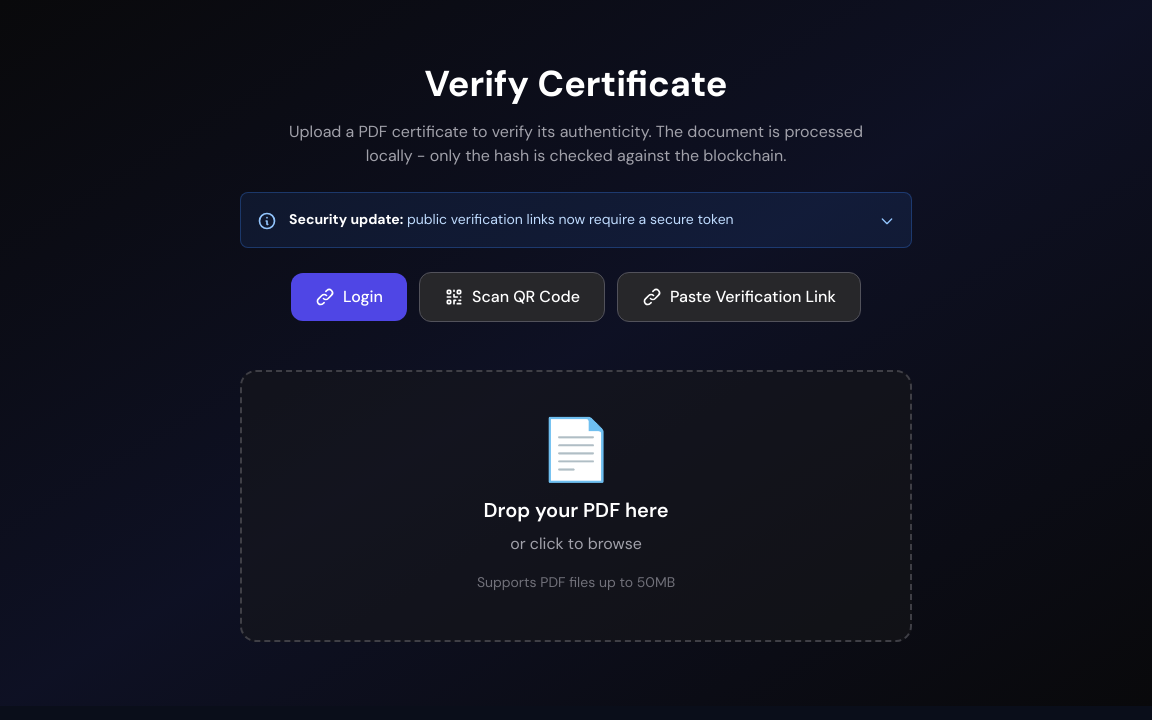
Test: Verify page › Paste Verification Link modal › pasting a valid raw hash while unauthenticated shows secure-link error
Click the button "Paste Verification Link". click: (739, 297)
box: [617,272,861,322]
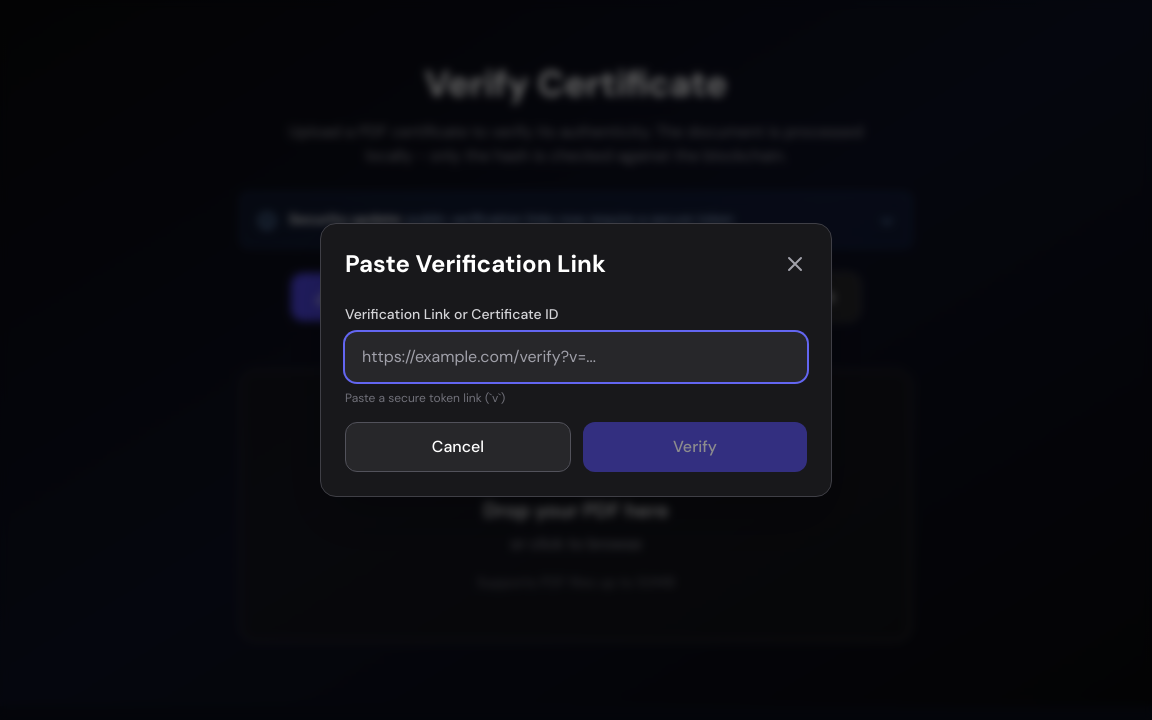
Type "0xaaaaaaaaaaaaaaaaaaaaaaaaaaaaaaaaaaaaaaaaaaaaaaaaaaaaaaaaaaaaaaaa" into the field. click: (576, 357)
box: [345,332,807,382]
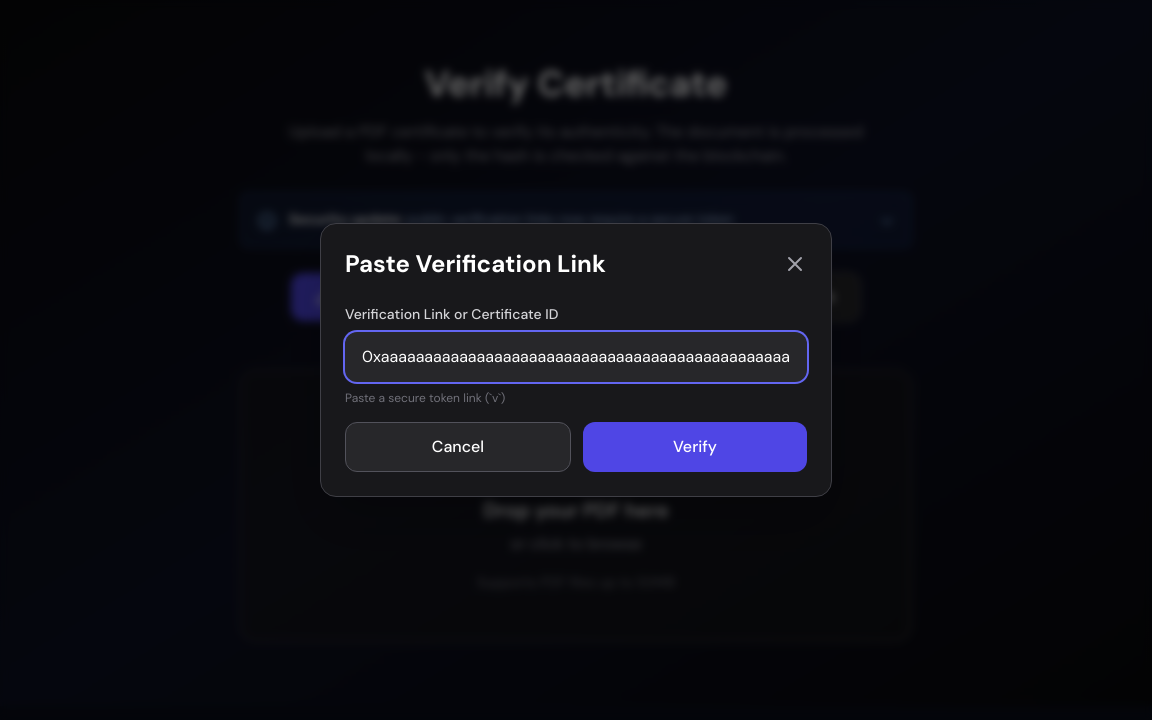
Click the button "Verify". click: (695, 447)
box: [583,422,807,472]
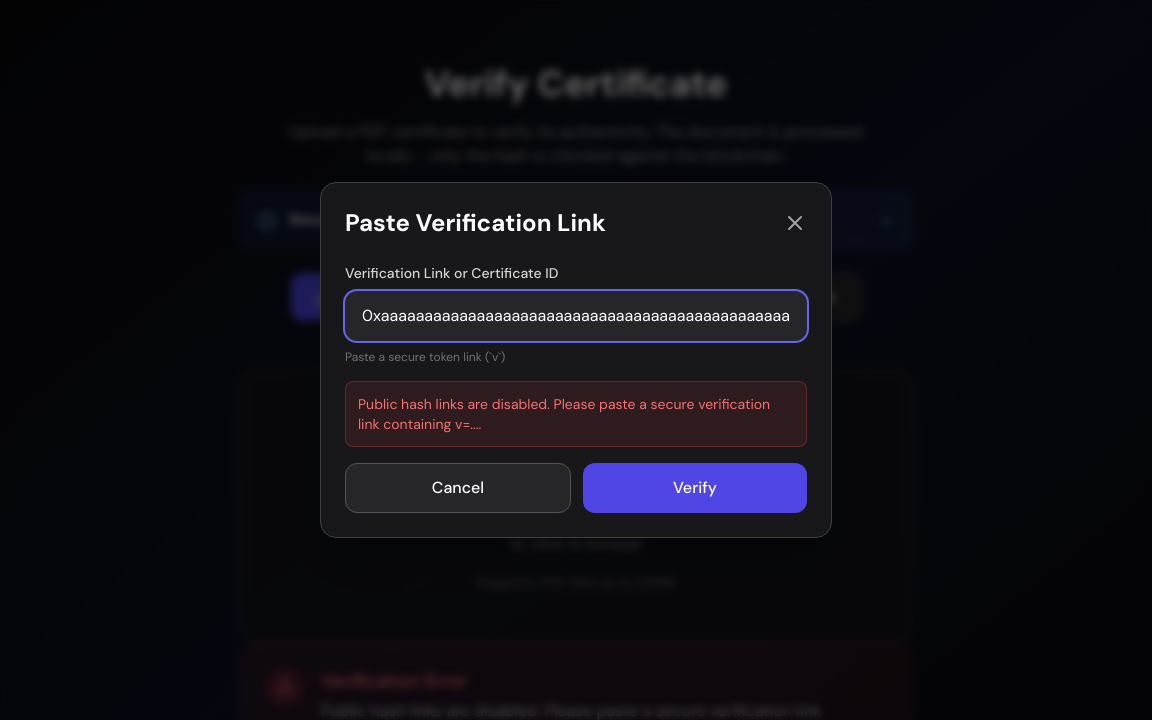
Now the text "Public hash links are disabled" is shown, box [358,395,770,433]
